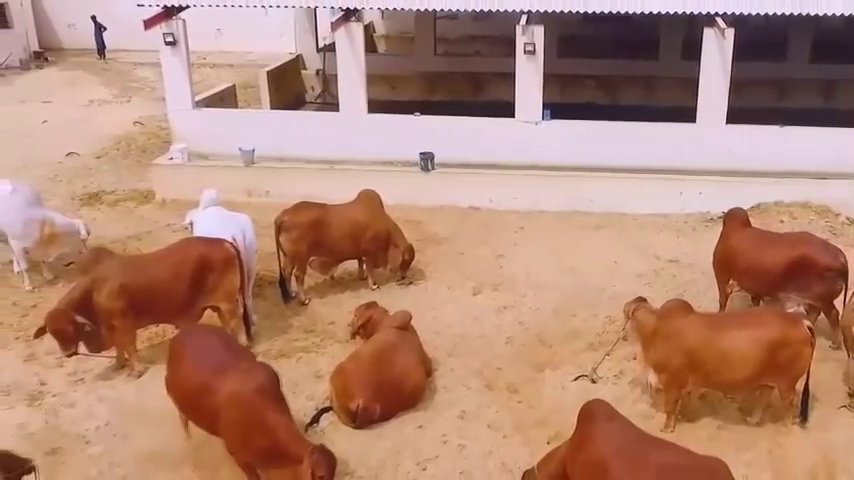bo: (28, 223, 247, 369), (603, 294, 816, 434), (157, 323, 349, 474), (499, 384, 754, 480), (268, 181, 419, 309), (699, 196, 840, 326), (313, 295, 446, 431), (175, 179, 269, 314), (1, 172, 93, 284)
